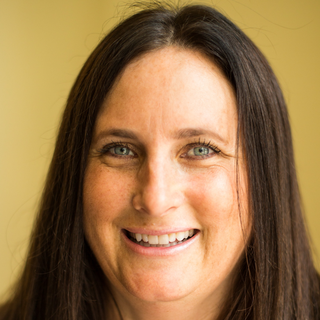eye: (177, 139, 224, 163), (99, 139, 144, 164)
